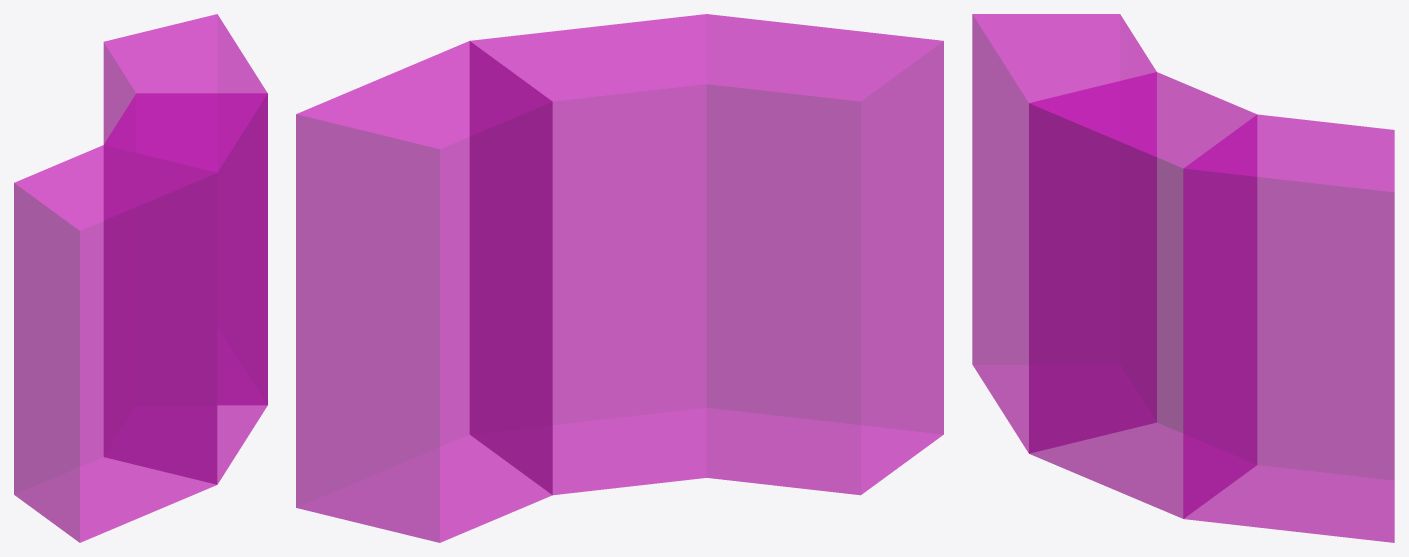
Rendered from SM_Bld_Wall_L_Curve_Half_02_Collision.fbx.
The picture shows the model from 3 angles, left to right: view 1: azimuth 30°, elevation 25°; view 2: azimuth 150°, elevation 25°; view 3: azimuth 270°, elevation 25°; orthographic projection. The views are drawn at different scales.
Parts seen in each view (by area): view 1: SM_Bld_Wall_L_Curve_Half_02_Collision; view 2: SM_Bld_Wall_L_Curve_Half_02_Collision; view 3: SM_Bld_Wall_L_Curve_Half_02_Collision.
Part boxes in pixels (x1,y1,x2,y2): SM_Bld_Wall_L_Curve_Half_02_Collision: [14, 14, 267, 542]; SM_Bld_Wall_L_Curve_Half_02_Collision: [296, 14, 943, 542]; SM_Bld_Wall_L_Curve_Half_02_Collision: [972, 14, 1394, 542].
Bounding box in the file's own units: 336 × 308 × 336.
